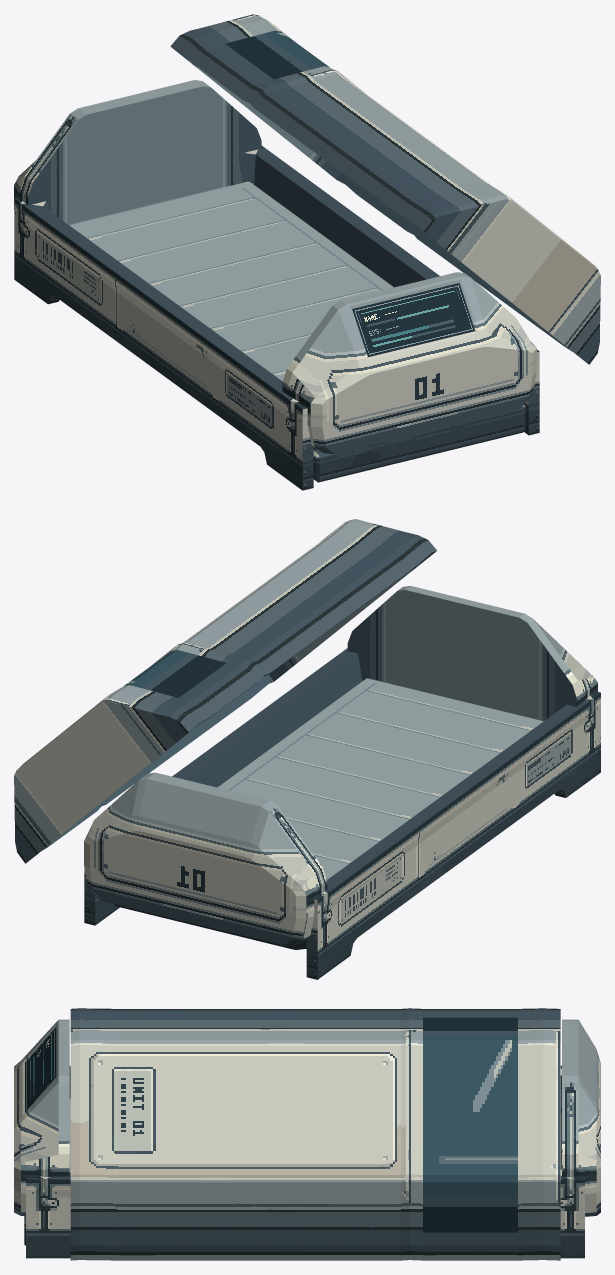
Rendered from pod_open_v3.glb.
3 views of the same model, one above another, from view 1: azimuth 30°, elevation 25°; view 2: azimuth 150°, elevation 25°; view 3: azimuth 270°, elevation 25° (orthographic). The views are drawn at different scales.
Parts seen in each view (by area): view 1: pod_v3_lid, pod_v3_shell_end, pod_v3_shell_side, pod_v3_mattress, pod_v3_interior.001, pod_v3_display, pod_v3_interior, pod_v3_glass; view 2: pod_v3_lid, pod_v3_shell_end, pod_v3_mattress, pod_v3_shell_side, pod_v3_interior.001, pod_v3_interior, pod_v3_glass; view 3: pod_v3_lid, pod_v3_glass, pod_v3_shell_side, pod_v3_shell_end, pod_v3_display.
Part boxes in pixels (x1,y1,x2,y2): pod_v3_lid: (170,14,600,364); pod_v3_shell_end: (19,80,539,490); pod_v3_shell_side: (14,113,539,490); pod_v3_mattress: (69,181,393,381); pod_v3_interior.001: (28,86,426,287); pod_v3_display: (352,283,475,357); pod_v3_interior: (171,47,587,363); pod_v3_glass: (225,30,329,79); pod_v3_lid: (14,519,436,863); pod_v3_shell_end: (84,586,593,979); pod_v3_mattress: (217,678,543,879); pod_v3_shell_side: (85,619,600,979); pod_v3_interior.001: (185,590,576,787); pod_v3_interior: (27,551,436,862); pod_v3_glass: (124,650,226,697); pod_v3_lid: (70,1008,560,1260); pod_v3_glass: (423,1017,517,1232); pod_v3_shell_side: (21,1065,596,1258); pod_v3_shell_end: (14,1019,600,1221); pod_v3_display: (25,1027,55,1112).
Size of the model in its own units: 1.42 by 0.9219 by 2.29.
Materials: 7 (7 with a texture image).
